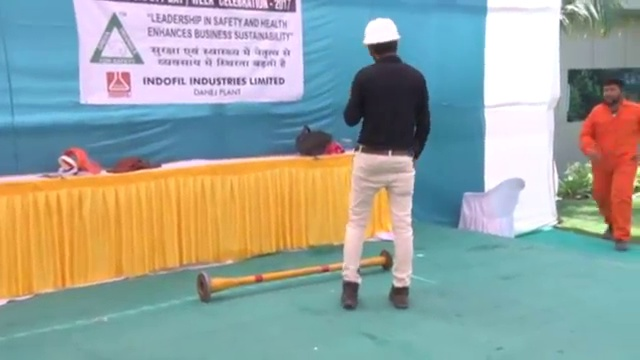helmet: (361, 15, 402, 47)
helmet_off: (599, 74, 625, 108)
helmet_on: (360, 15, 402, 63)
person: (338, 15, 432, 311), (575, 74, 640, 253)
